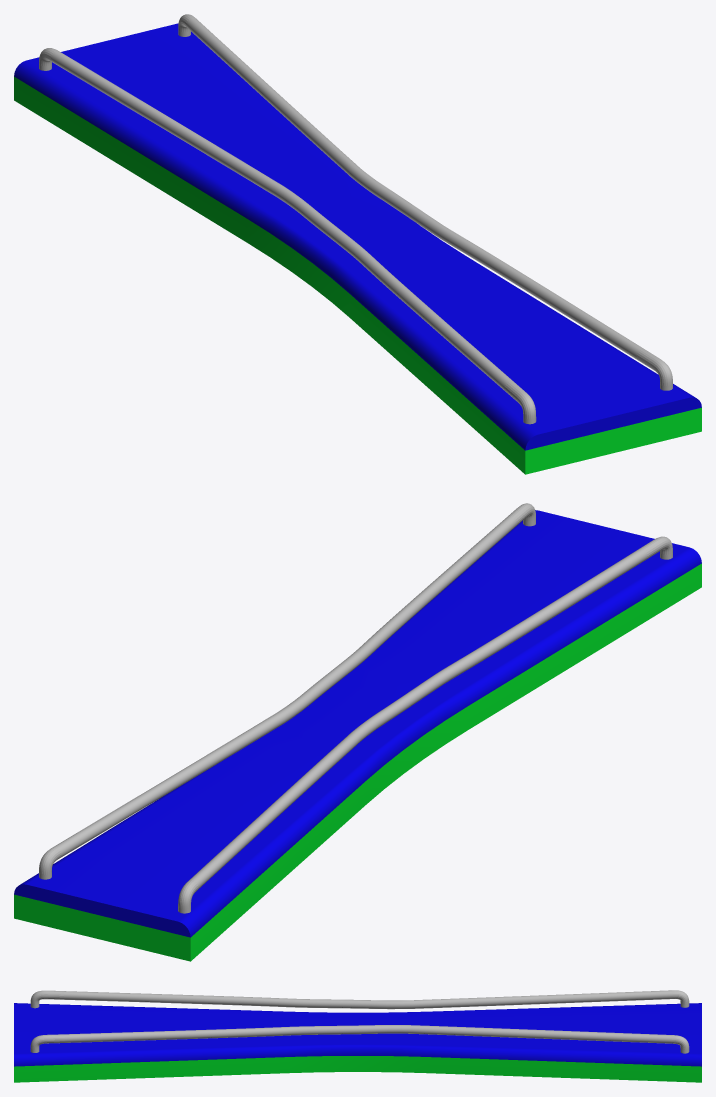
3 renders of one model, top to bottom at view 1: azimuth 30°, elevation 25°; view 2: azimuth 150°, elevation 25°; view 3: azimuth 270°, elevation 25°, orthographic. The views are drawn at different scales.
Visible parts, largest first — view 1: Cube.003, pCylinder63, pCylinder62; view 2: Cube.003, pCylinder63, pCylinder62; view 3: Cube.003, pCylinder63, pCylinder62.
Boxes of the visible parts, x1=… form: Cube.003: x1=14, y1=23, x2=701, y2=474; pCylinder63: x1=39, y1=48, x2=536, y2=424; pCylinder62: x1=178, y1=14, x2=672, y2=390; Cube.003: x1=14, y1=510, x2=701, y2=961; pCylinder63: x1=178, y1=536, x2=672, y2=913; pCylinder62: x1=39, y1=503, x2=535, y2=879; Cube.003: x1=14, y1=1003, x2=701, y2=1082; pCylinder63: x1=30, y1=990, x2=689, y2=1009; pCylinder62: x1=30, y1=1025, x2=689, y2=1053.
Bounding box in the file's own units: 500 × 163 × 2506.
